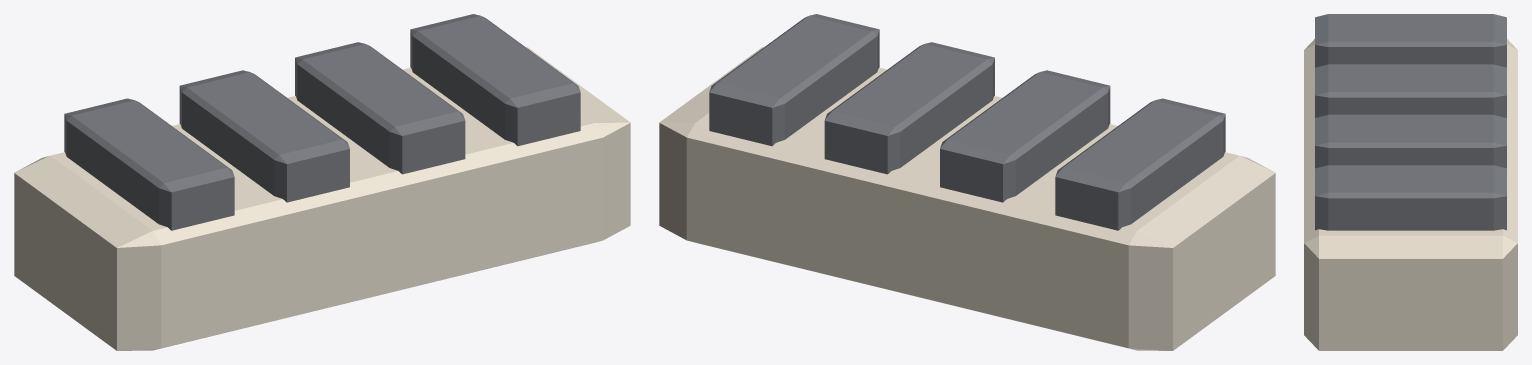
Rendered from b12_canvas_wedge_shop_awning.glb.
3 renders of one model, left to right at view 1: azimuth 30°, elevation 25°; view 2: azimuth 150°, elevation 25°; view 3: azimuth 270°, elevation 25°, orthographic. The views are drawn at different scales.
Visible parts, largest first — view 1: b12_canvas_wedge_shop_awning; view 2: b12_canvas_wedge_shop_awning; view 3: b12_canvas_wedge_shop_awning.
Boxes of the visible parts, <box> form: b12_canvas_wedge_shop_awning: <box>14,14,630,350</box>; b12_canvas_wedge_shop_awning: <box>659,14,1275,350</box>; b12_canvas_wedge_shop_awning: <box>1304,14,1517,350</box>.
Bounding box in the file's own units: 3.1 × 0.92 × 1.25.
